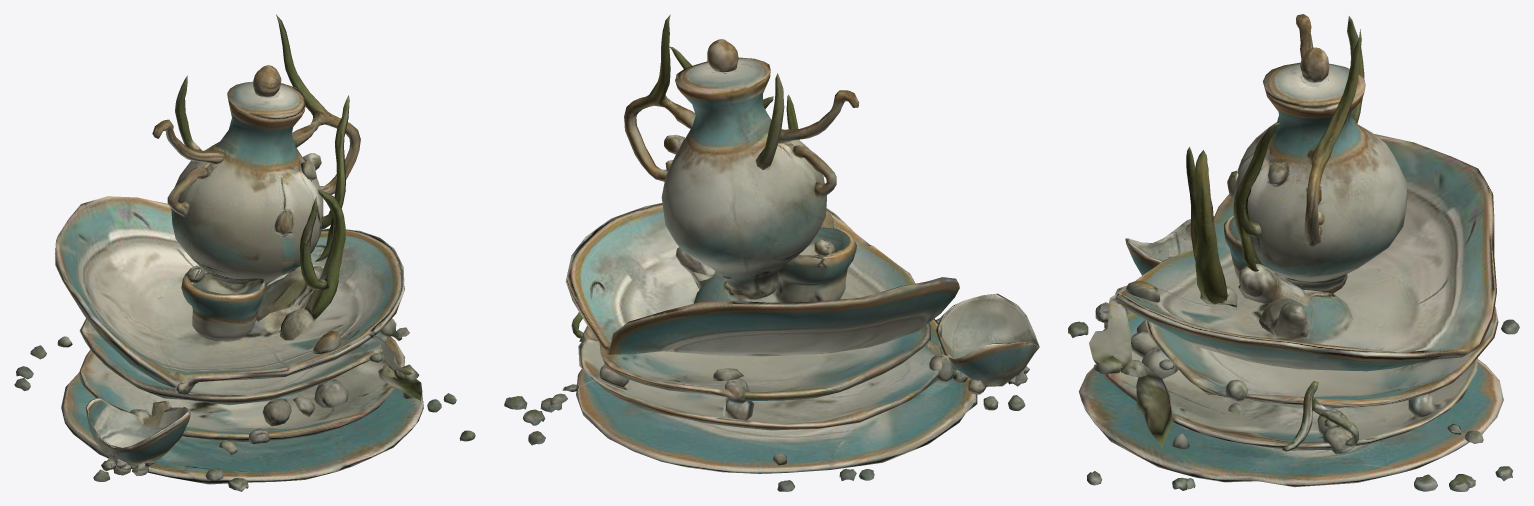
File: cs_fonte.glb
The picture shows the model from 3 angles, left to right: view 1: azimuth 30°, elevation 25°; view 2: azimuth 150°, elevation 25°; view 3: azimuth 270°, elevation 25°; orthographic projection. The views are drawn at different scales.
Parts seen in each view (by area): view 1: mesh_node.002; view 2: mesh_node.002; view 3: mesh_node.002.
Boxes of the visible parts, x1,y1,x2,y2 form: mesh_node.002: [14, 14, 475, 491]; mesh_node.002: [504, 14, 1039, 491]; mesh_node.002: [1068, 14, 1519, 491].
Size of the model in its own units: 0.353 by 0.3345 by 0.3291.
Materials: 1 (1 with a texture image).
